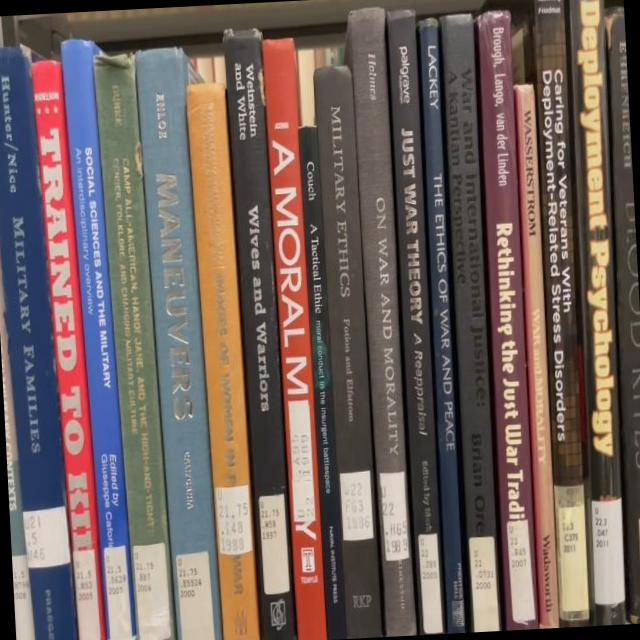book: (134, 45, 221, 640), (91, 55, 179, 640), (0, 48, 79, 640), (59, 41, 137, 640), (223, 29, 297, 640), (30, 57, 104, 640), (185, 82, 261, 640), (261, 38, 331, 640), (350, 9, 416, 636), (439, 15, 503, 632), (476, 12, 539, 630), (566, 0, 627, 626), (315, 69, 382, 638), (531, 0, 591, 625), (386, 10, 445, 633), (417, 18, 467, 634), (297, 126, 348, 640), (597, 15, 640, 621), (515, 89, 563, 628), (598, 10, 640, 622), (0, 250, 36, 640)
